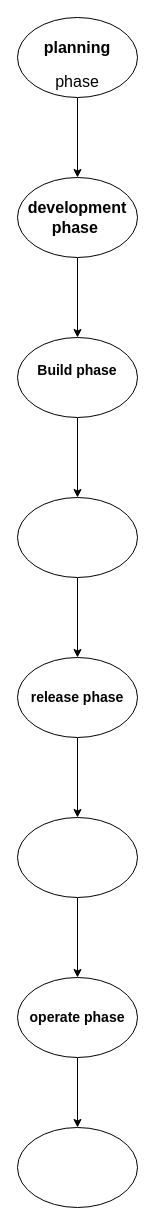
Image size: 155x1225. Some labels were removed from this diagram. Here are the shapes that lost their labels. From the top down, the centre of each, then its label:
At (x=77, y=537): "Test phase".
At (x=77, y=857): "deploy phase".
At (x=77, y=1167): "monitor phase".
